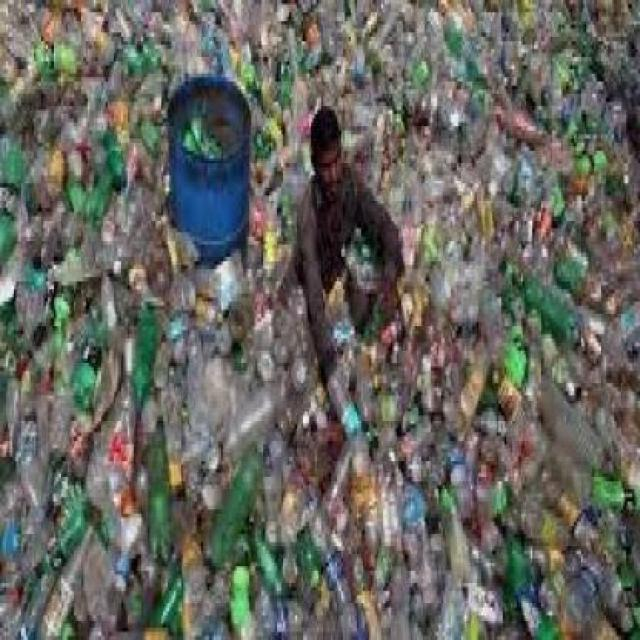garbage: (0, 0, 298, 635), (408, 106, 637, 636), (305, 0, 638, 106), (303, 368, 410, 637)
